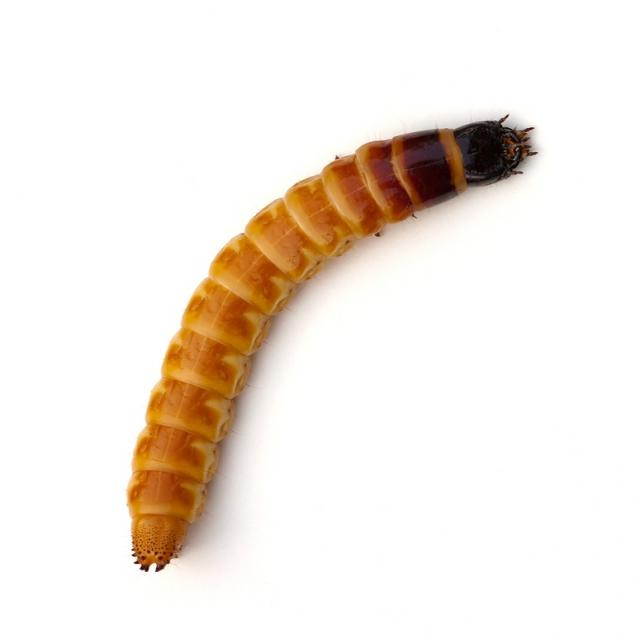wireworm: (113, 94, 546, 576)
